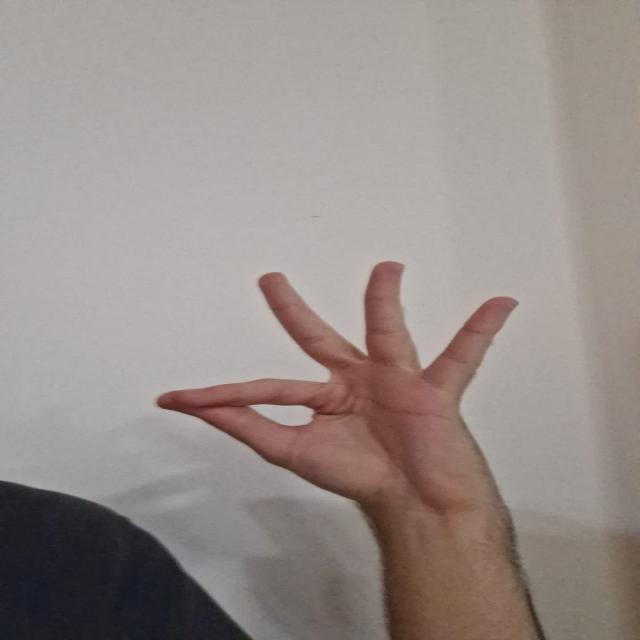F: (155, 258, 527, 496)
